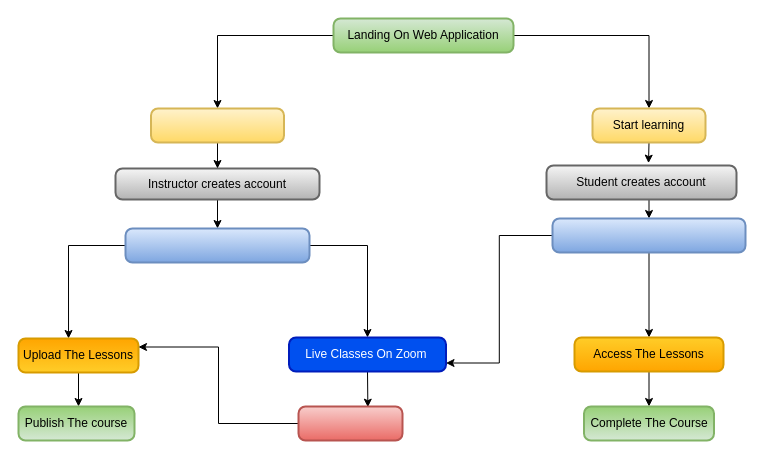
Some shapes in this 763 by 466 pixel diagram are drawn without their labels. Each missing label, with the centre of its shape:
End meeting: (x=350, y=423)
Instructor builds course: (x=217, y=245)
Start Teaching: (x=217, y=125)
Student enrolls in course: (x=648, y=235)
